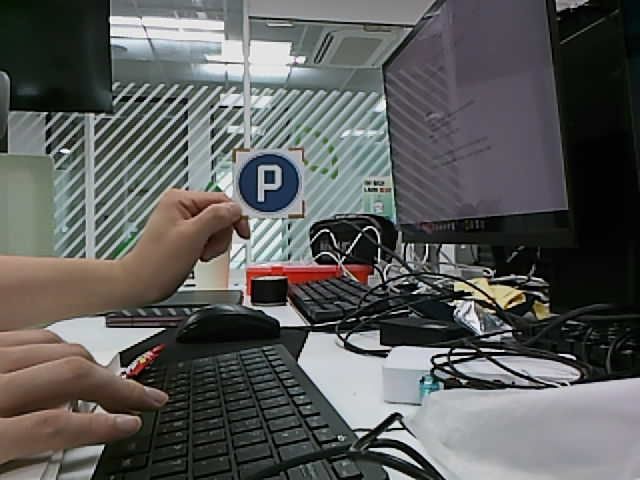park: (237, 153, 300, 212)
